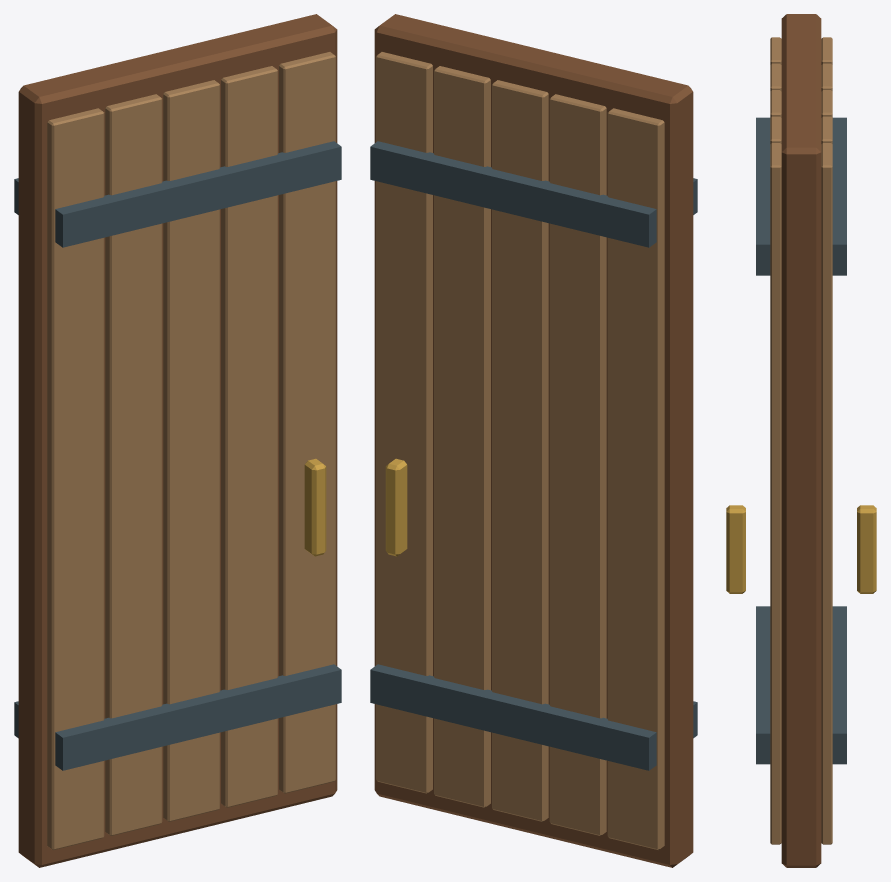
File: door_wood_plank.glb
3 views of the same model, side by side, from view 1: azimuth 30°, elevation 25°; view 2: azimuth 150°, elevation 25°; view 3: azimuth 270°, elevation 25° (orthographic). The views are drawn at different scales.
Visible parts, largest first — view 1: door_wood_plank; view 2: door_wood_plank; view 3: door_wood_plank.
Boxes of the visible parts, left/top/right/bottom form: door_wood_plank: left=14, top=14, right=341, bottom=867; door_wood_plank: left=370, top=14, right=697, bottom=867; door_wood_plank: left=726, top=14, right=876, bottom=867.
Size of the model in its own units: 1.15 by 2.8 by 0.53.
